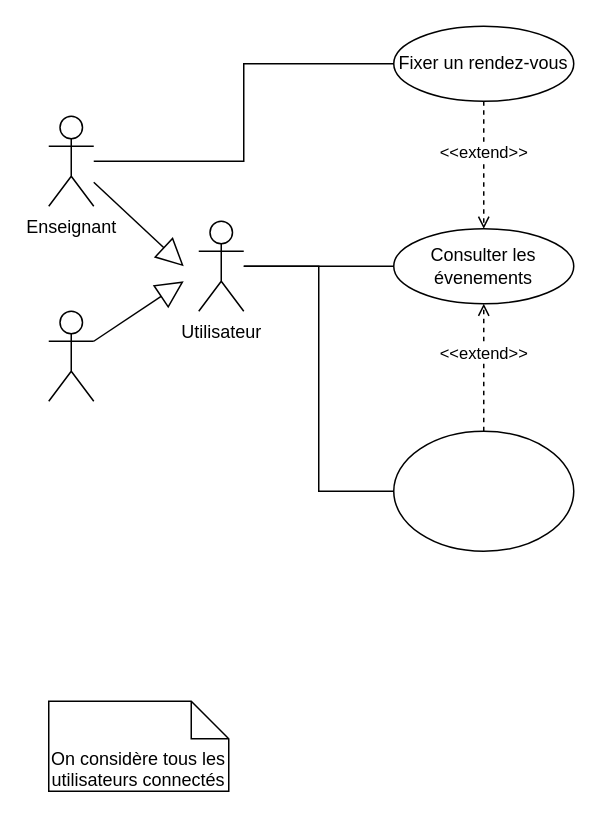
Image size: 600x819. Some labels were removed from this diagram. The box of each missing label's shape, as (x1, y1, x2, y2) in pixels:
Ajouter/supprimer un événement dans son calendrier: (392, 430, 574, 551)
Eleve: (47, 310, 94, 401)
